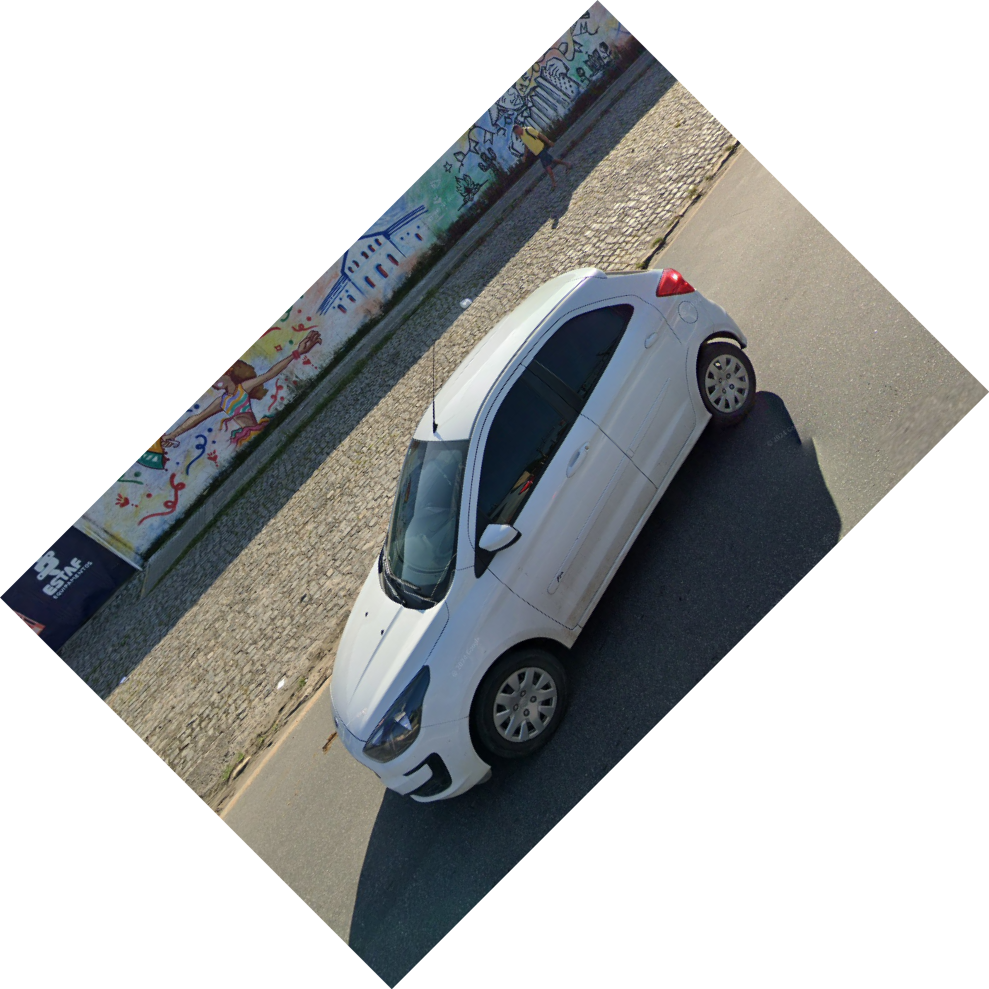car: (322, 258, 761, 830)
